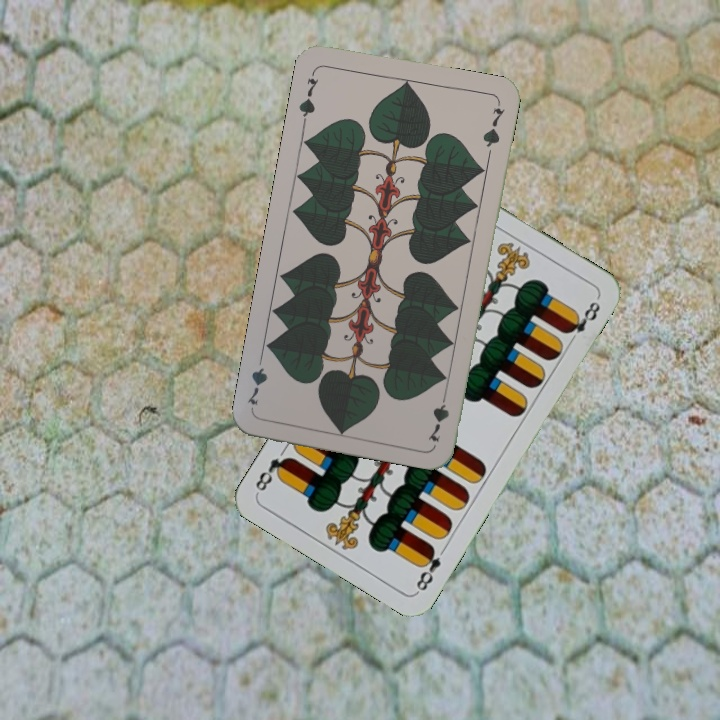E8: (412, 541, 444, 595)
G7: (424, 386, 452, 445), (295, 67, 321, 126)
